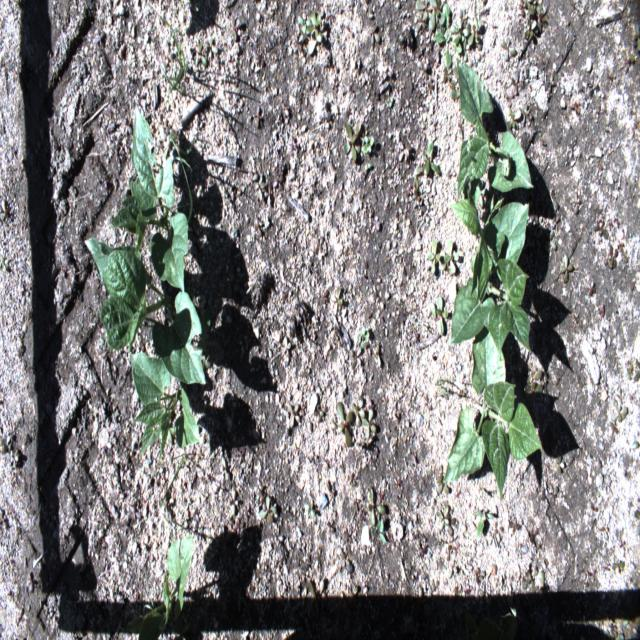crop: (441, 317, 545, 506), (83, 237, 208, 385), (110, 102, 189, 294), (444, 172, 528, 302), (457, 58, 534, 199), (449, 258, 532, 367), (128, 338, 200, 462), (127, 532, 196, 639)
weed: (151, 9, 190, 95), (434, 5, 484, 68), (517, 0, 549, 41), (343, 122, 374, 164), (426, 237, 460, 274), (413, 140, 441, 178), (351, 398, 376, 440), (415, 0, 446, 31), (335, 401, 354, 448), (297, 8, 322, 42), (365, 485, 385, 526), (430, 296, 450, 335), (474, 508, 496, 542), (524, 366, 542, 406), (610, 387, 629, 424), (436, 506, 456, 538), (257, 496, 277, 526), (559, 255, 575, 284), (505, 105, 521, 131), (510, 69, 525, 96), (192, 40, 207, 66), (501, 36, 516, 60), (357, 324, 371, 349), (204, 34, 218, 58)
